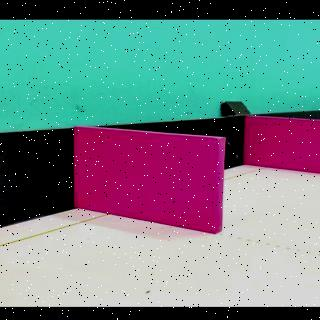xparking: (78, 144, 218, 233), (249, 122, 315, 171)
